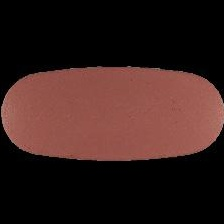50268-576: (0, 0, 224, 224)
